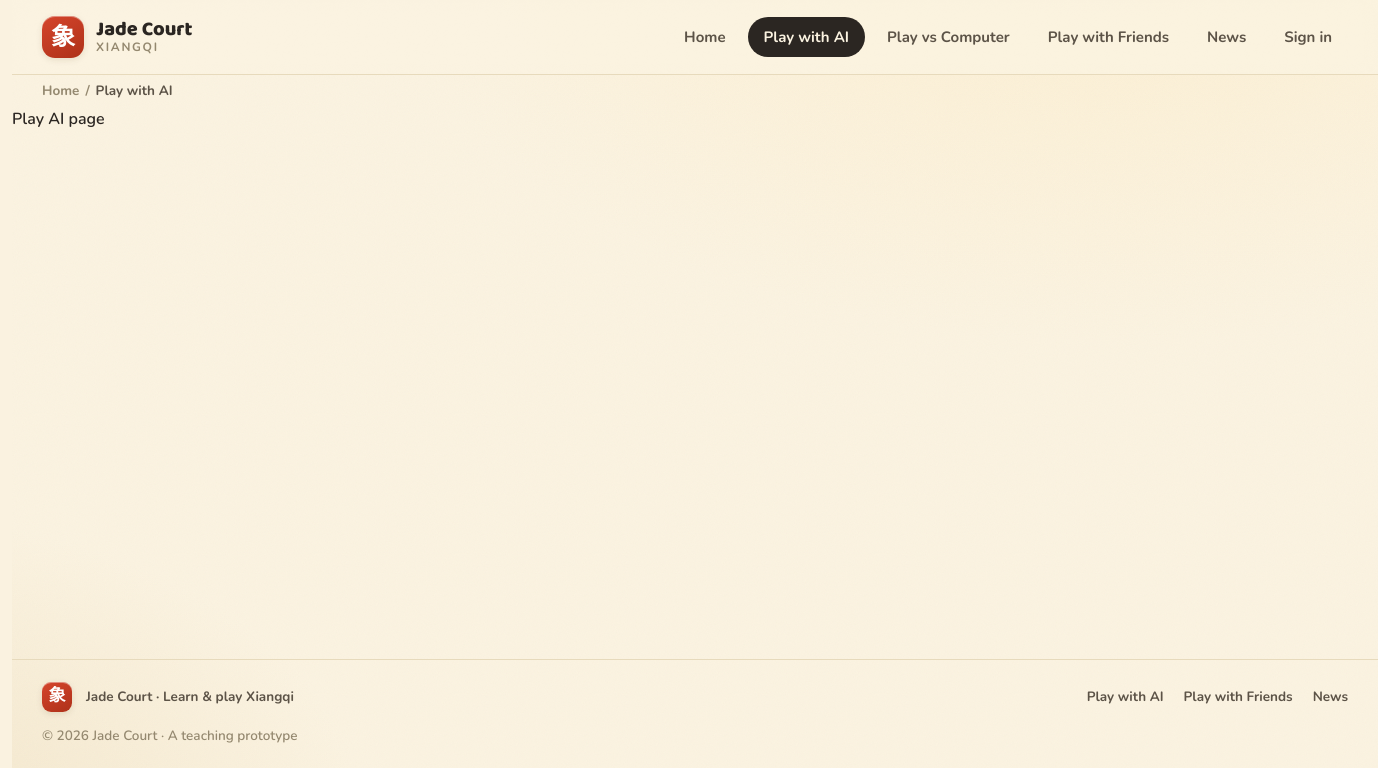
Scenario: App shell › brand link returns home
Click the link "象 Jade Court Xiangqi" at point(117, 37), box [42,16,192,58]
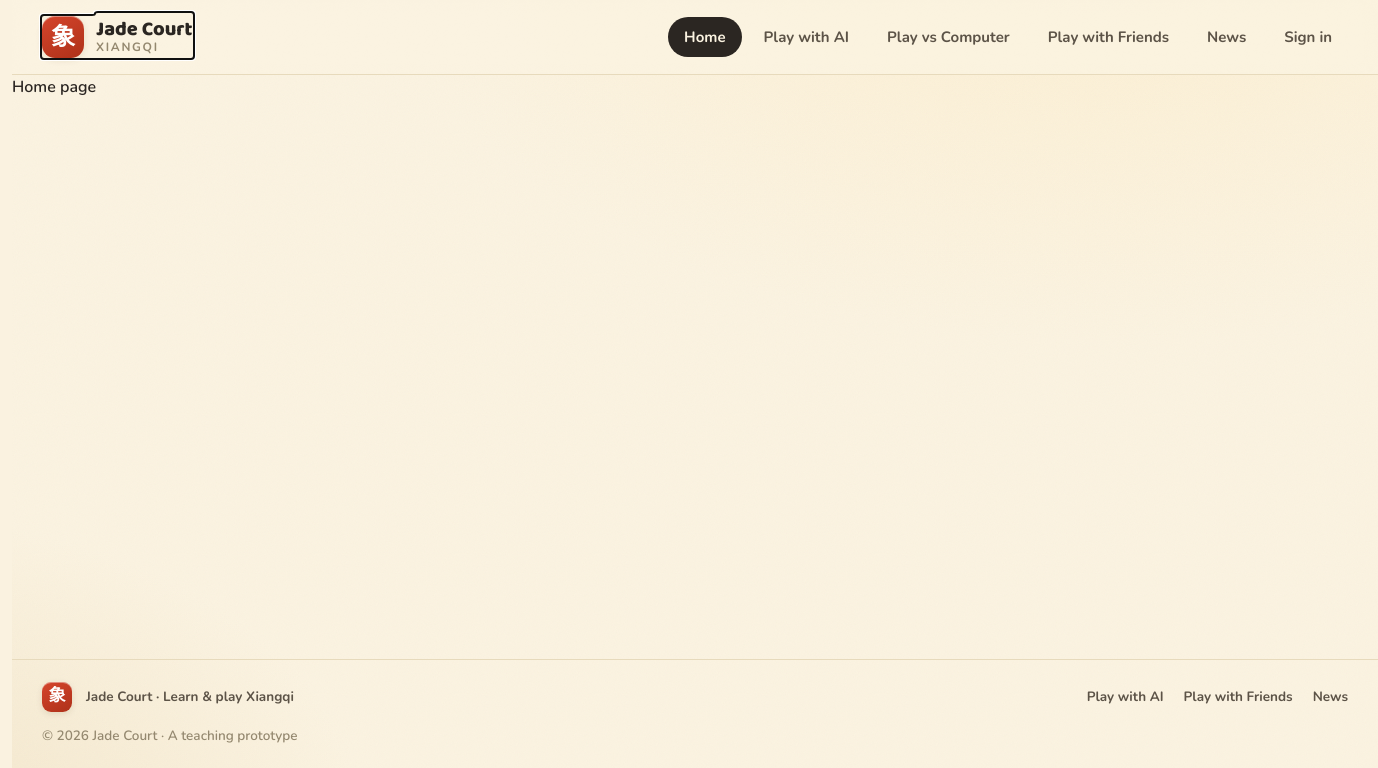
Check: the text "Home page" is shown, box [12,76,96,98]
